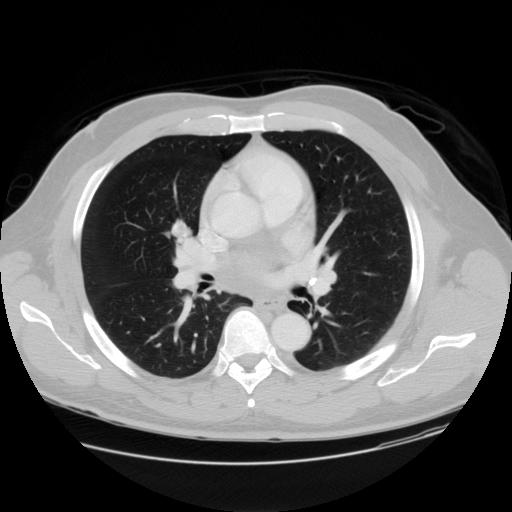nodule: (170, 219, 193, 242)
